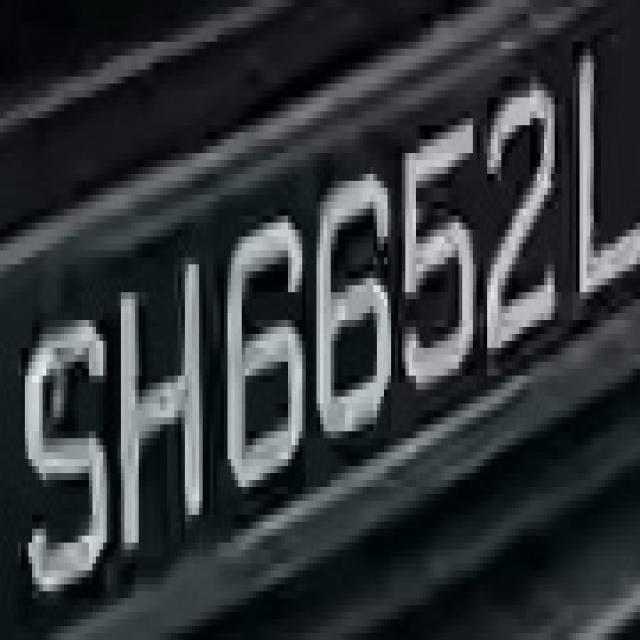2: (476, 76, 554, 404)
5: (394, 118, 484, 424)
6: (299, 167, 405, 445), (210, 209, 306, 494)
H: (110, 258, 214, 556)
L: (551, 28, 633, 327)
S: (21, 299, 110, 605)
